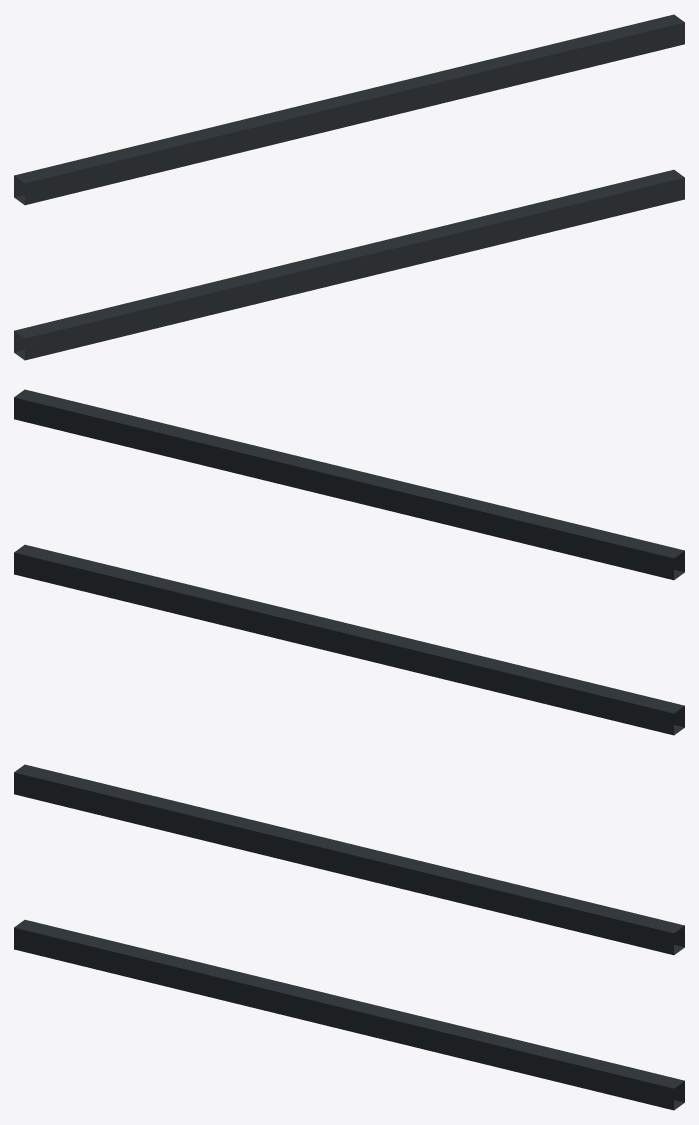
File: Fence 01.FBX
3 renders of one model, top to bottom at view 1: azimuth 30°, elevation 25°; view 2: azimuth 150°, elevation 25°; view 3: azimuth 330°, elevation 25°, orthographic.
Visible parts, largest first — view 1: Fence 01; view 2: Fence 01; view 3: Fence 01.
Boxes of the visible parts, <box> form: Fence 01: <box>14,14,684,360</box>; Fence 01: <box>14,389,684,735</box>; Fence 01: <box>14,764,684,1110</box>.
Bounding box in the file's own units: 255 × 65.24 × 7.26.
